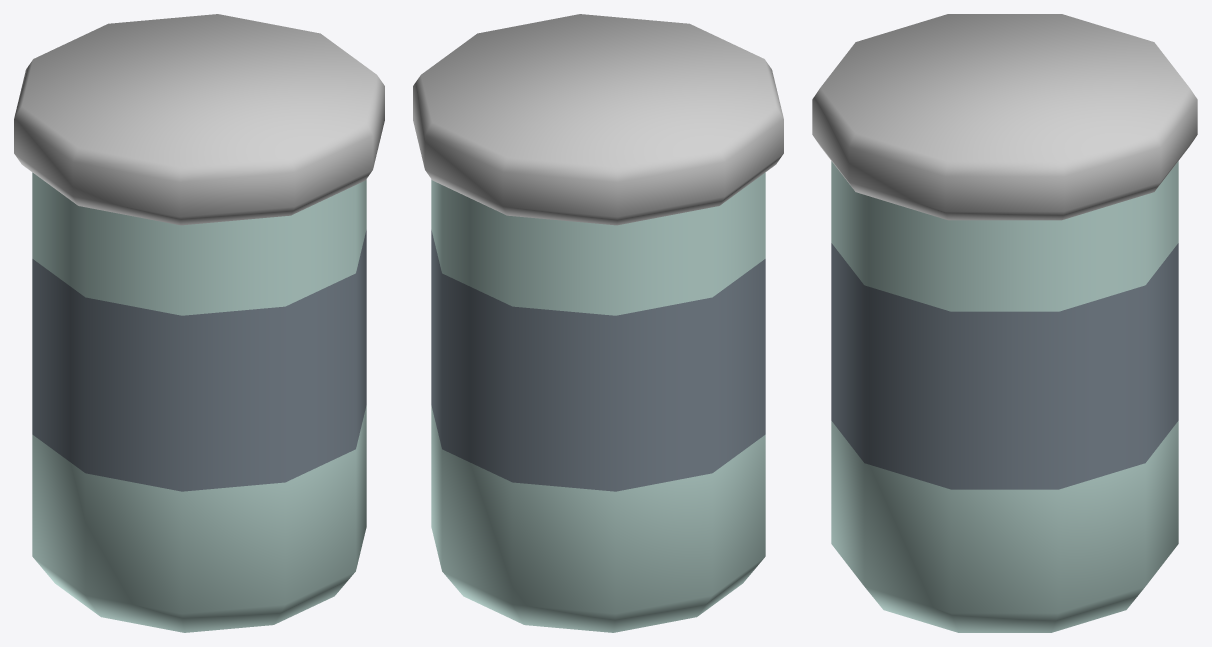
The model's file is Jar.fbx.
The picture shows the model from 3 angles, left to right: view 1: azimuth 30°, elevation 25°; view 2: azimuth 150°, elevation 25°; view 3: azimuth 270°, elevation 25°; orthographic projection.
Visible parts, largest first — view 1: Jar; view 2: Jar; view 3: Jar.
Boxes of the visible parts, bbox=[...] form: Jar: bbox=[14, 14, 384, 632]; Jar: bbox=[413, 14, 783, 632]; Jar: bbox=[812, 14, 1197, 632].
Bounding box in the file's own units: 0.2122 × 0.3121 × 0.2247.
